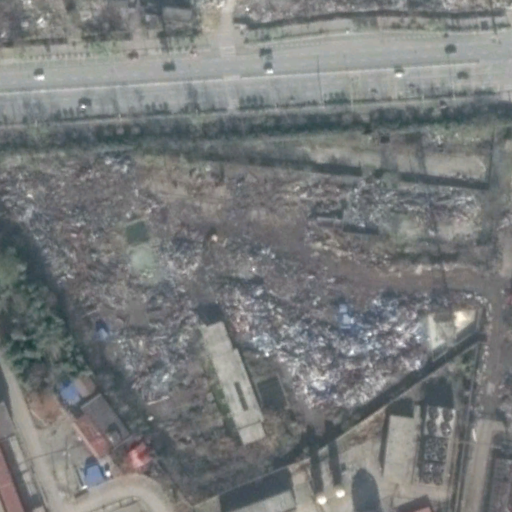msw: (16, 155, 488, 438)
